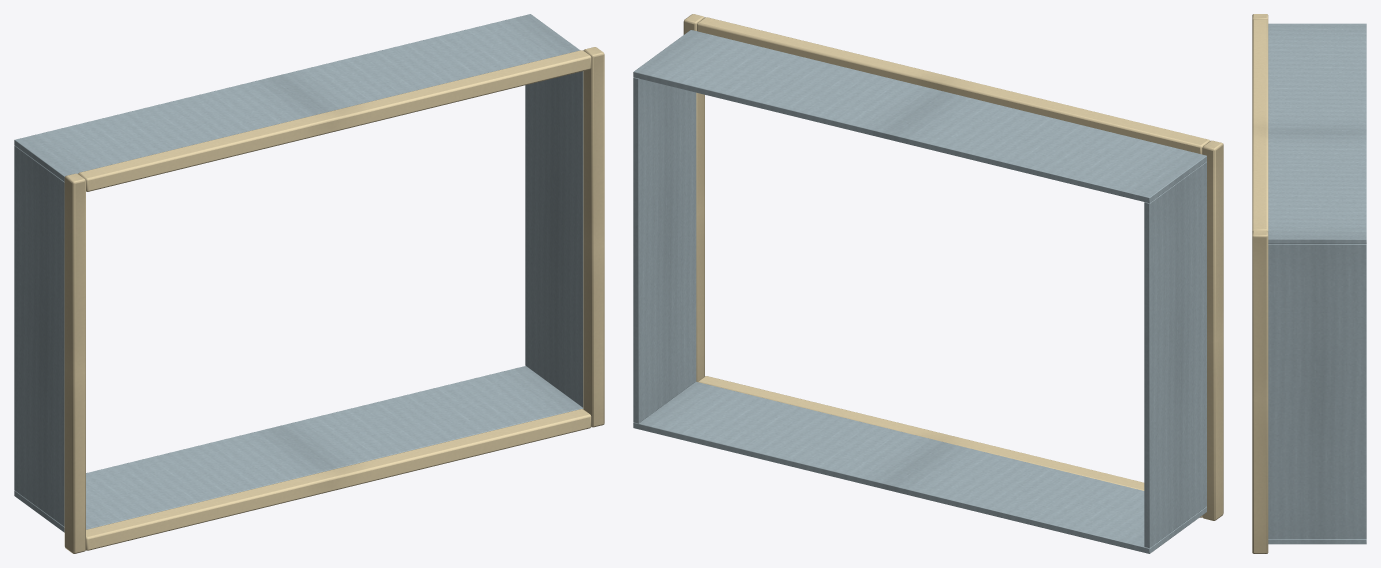
File: 28-front-open-long-window--52.fbx
3 views of the same model, side by side, from view 1: azimuth 30°, elevation 25°; view 2: azimuth 150°, elevation 25°; view 3: azimuth 270°, elevation 25° (orthographic). The views are drawn at different scales.
Parts seen in each view (by area): view 1: front-open-long-window--52; view 2: front-open-long-window--52; view 3: front-open-long-window--52.
Boxes of the visible parts, left/top/right/bottom form: front-open-long-window--52: left=14, top=14, right=604, bottom=553; front-open-long-window--52: left=633, top=14, right=1223, bottom=553; front-open-long-window--52: left=1252, top=14, right=1366, bottom=553.
Bounding box in the file's own units: 4840 × 3240 × 1055.
1 material, 1 textured.
